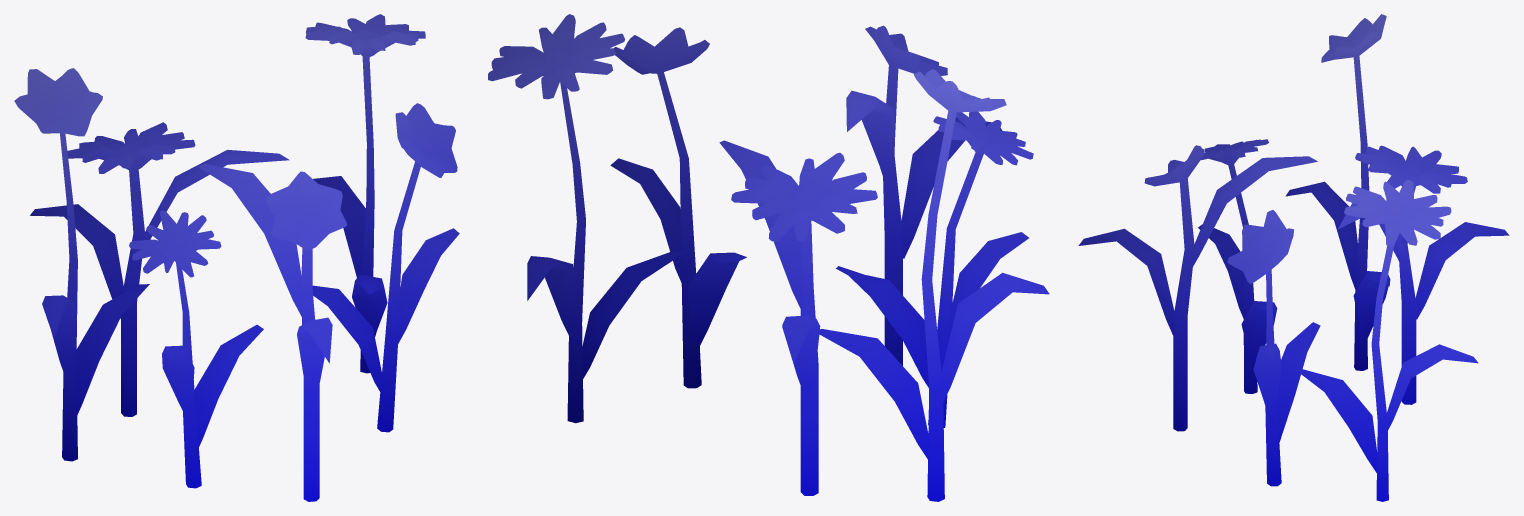
File: SM_Env_Wildflowers_02.fbx
3 views of the same model, side by side, from view 1: azimuth 30°, elevation 25°; view 2: azimuth 150°, elevation 25°; view 3: azimuth 270°, elevation 25° (orthographic). The views are drawn at different scales.
Visible parts, largest first — view 1: SM_Env_Wildflowers_02_LOD0; view 2: SM_Env_Wildflowers_02_LOD0; view 3: SM_Env_Wildflowers_02_LOD0.
Boxes of the visible parts, x1,y1,x2,y2 form: SM_Env_Wildflowers_02_LOD0: [14, 14, 459, 501]; SM_Env_Wildflowers_02_LOD0: [488, 14, 1049, 501]; SM_Env_Wildflowers_02_LOD0: [1078, 14, 1509, 501].
Size of what is drawn, in the model's own units: 73.64 by 63.25 by 72.04.
